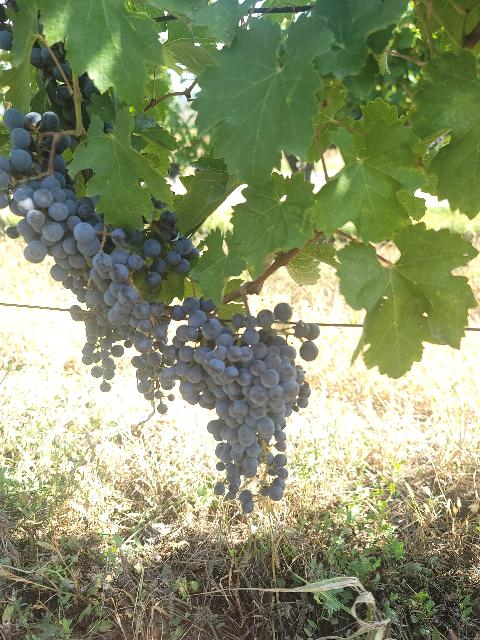grapes: (156, 296, 310, 495), (0, 109, 101, 281)
